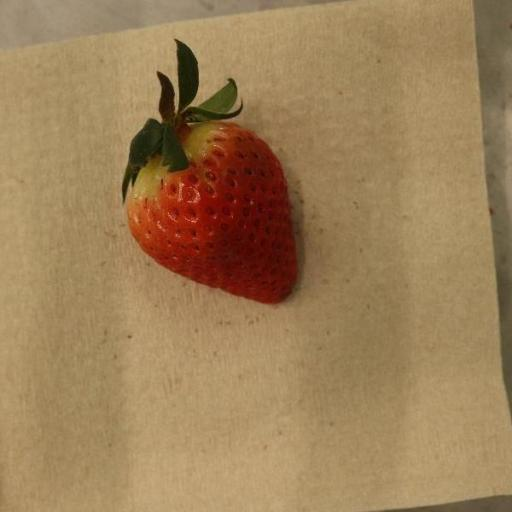Strawberry: (122, 40, 298, 306)
